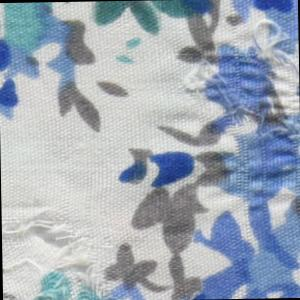Damage: (178, 1, 300, 212), (2, 194, 130, 300)
